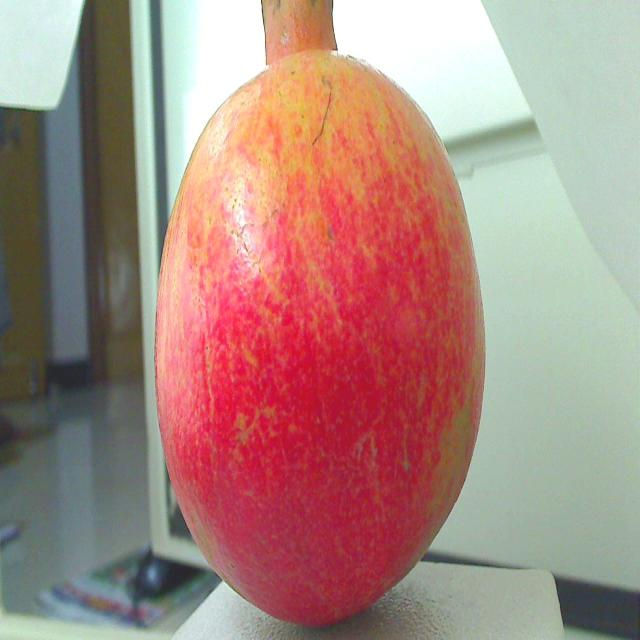pomegranate: (146, 0, 498, 634)
